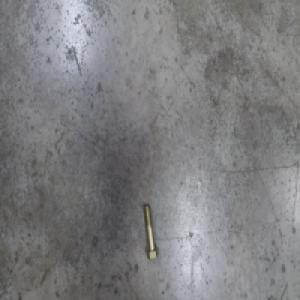Bolt: (142, 206, 159, 263)
